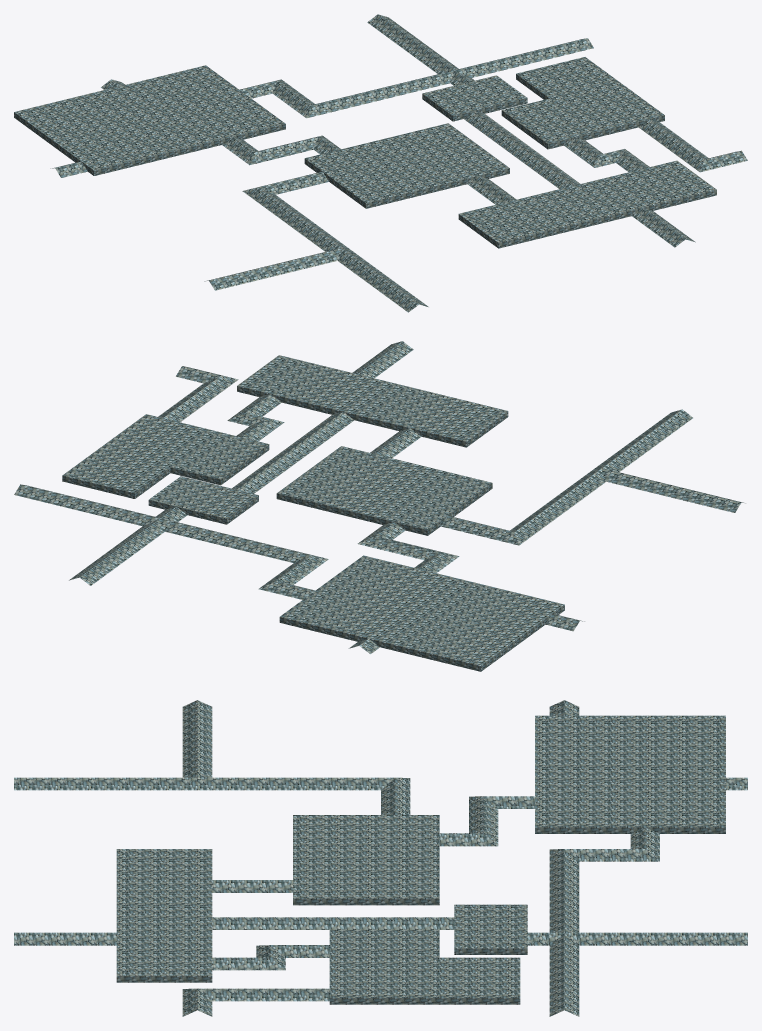
3 renders of one model, top to bottom at view 1: azimuth 30°, elevation 25°; view 2: azimuth 150°, elevation 25°; view 3: azimuth 270°, elevation 25°, orthographic. The views are drawn at different scales.
Parts seen in each view (by area): view 1: DR1; view 2: DR1; view 3: DR1.
Part boxes in pixels (x1=…): DR1: x1=14, y1=14, x2=747, y2=312; DR1: x1=14, y1=341, x2=745, y2=671; DR1: x1=14, y1=700, x2=747, y2=1016.
Bounding box in the file's own units: 100 × 1 × 100.
Materials: 1 (1 with a texture image).
